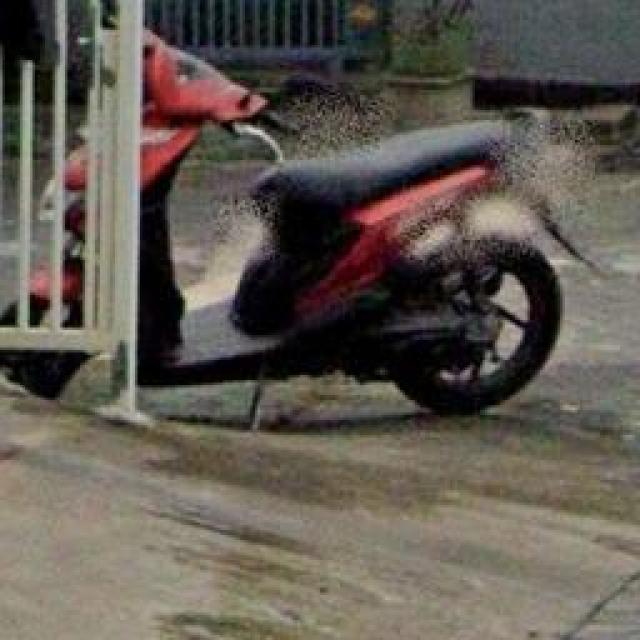motorbike: (13, 0, 576, 438)
